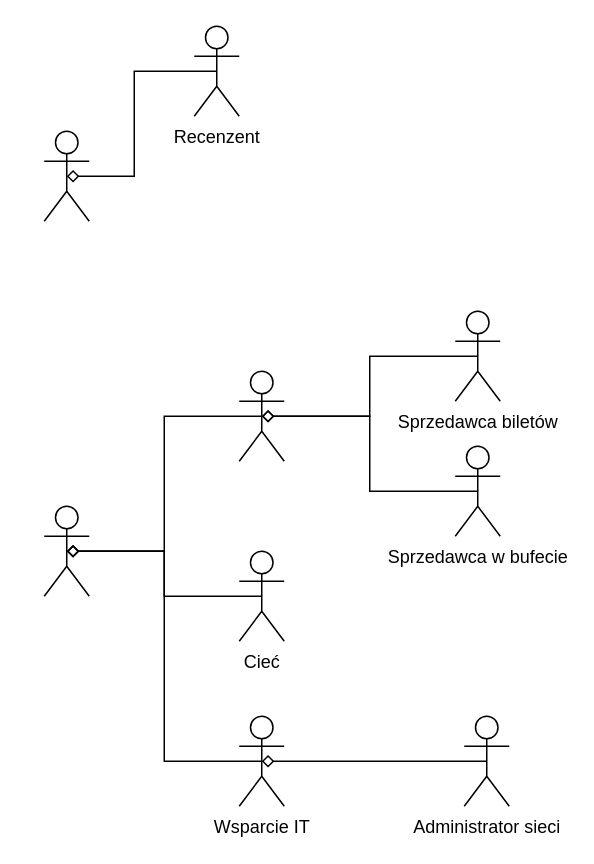
This 594x864 diagram has some shape labels left out. Each missing label, with the box of its shape:
Klient: (43, 130, 89, 221)
Pracownik: (43, 505, 89, 596)
Sprzedawca: (238, 370, 284, 461)
